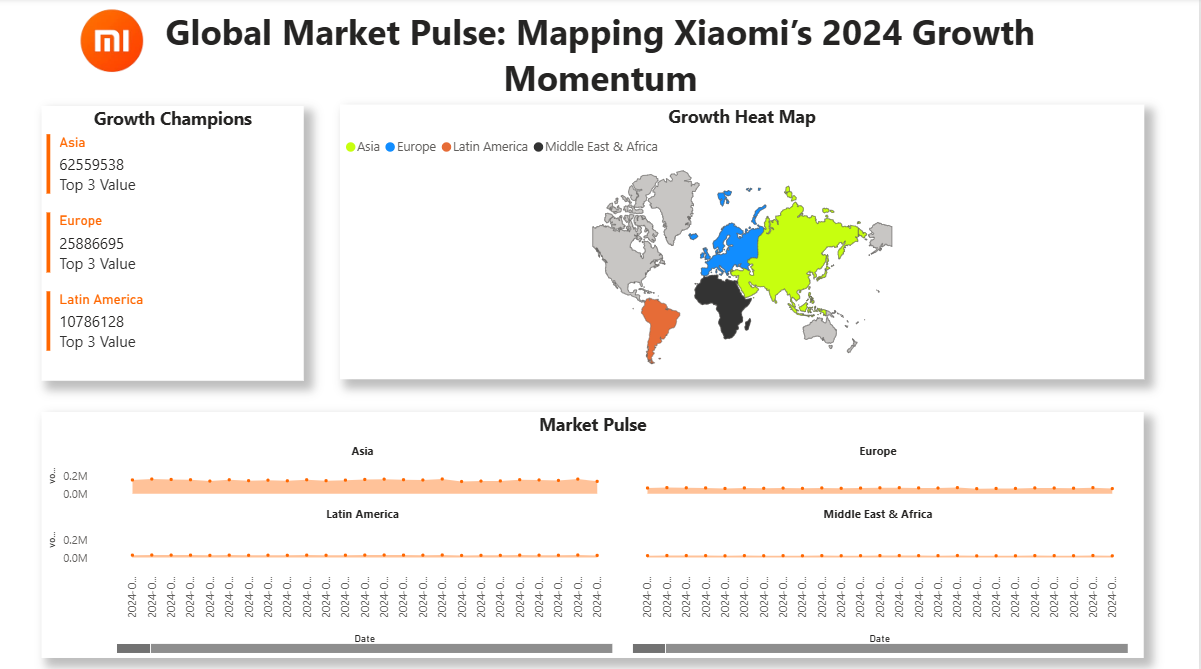

What the dashboard file says about the page in this screenshot:
{"tool":"powerbi","page":{"name":"Page 1","canvas":[1280,720],"ordinal":0},"visuals":[{"type":"shapeMap","title":"Growth Heat Map","fields":{"Category":["Query1.wilayah_map"],"Series":["Query1.wilayah_label"],"Value":["Sum(Query1.volume_penjualan)"]},"box":[364.3,113.4,856.4,292.4],"z":0},{"type":"multiRowCard","title":"Growth Champions","fields":{"Values":["Query1.wilayah_label","Query1.Top 3 Value"]},"box":[46.3,115,279.6,292.4],"z":1},{"type":"areaChart","title":"Market Pulse","fields":{"Category":["Query1.Tanggal"],"Y":["Sum(Query1.volume_penjualan)"],"Rows":["Query1.wilayah_label"]},"box":[46.3,434.6,1174.3,268.4],"z":2},{"type":"image","box":[70.3,11.2,102.3,68.7],"z":3},{"type":"textbox","box":[81.5,4.8,1120,116.6],"z":4}]}

Visuals, with their boxes in screenshot pixels (x1, y1, x2, y2), scaled from the page's 1280x720 canvas onto the 1201x669 screenshot:
"Growth Heat Map" shapeMap: region(342, 105, 1145, 377)
"Growth Champions" multiRowCard: region(43, 107, 306, 379)
"Market Pulse" areaChart: region(43, 404, 1145, 653)
image: region(66, 10, 162, 74)
textbox: region(76, 4, 1127, 113)
